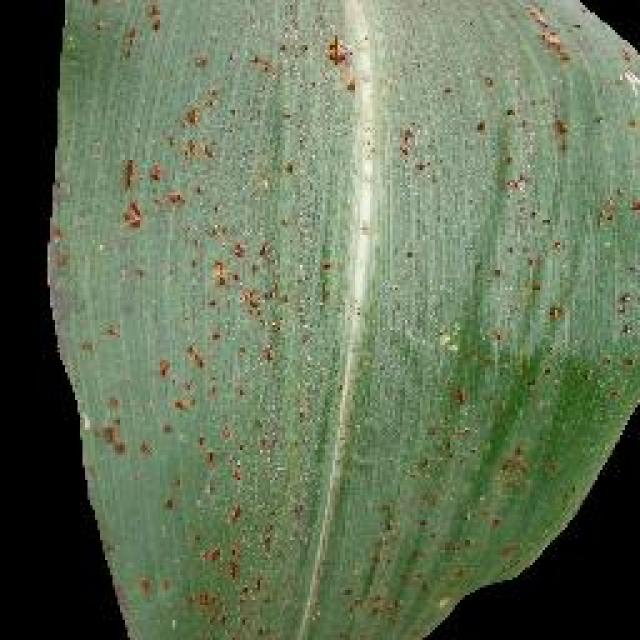Corn___Common_rust: (32, 2, 638, 640)
